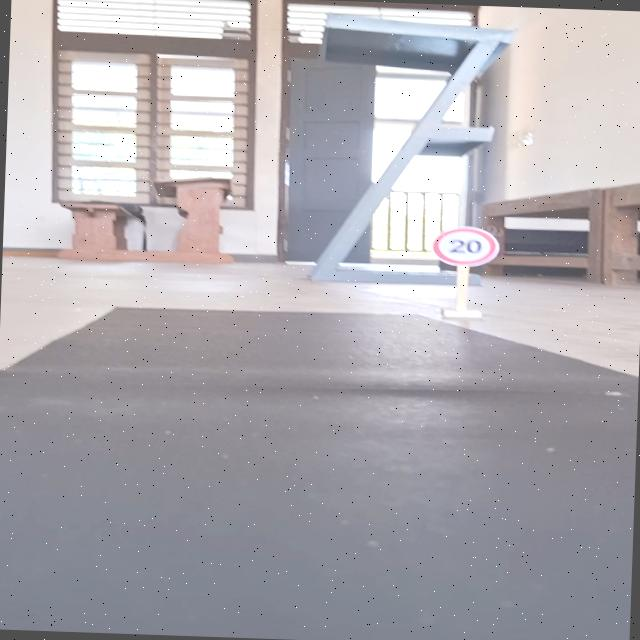Speed20: (427, 223, 504, 269)
